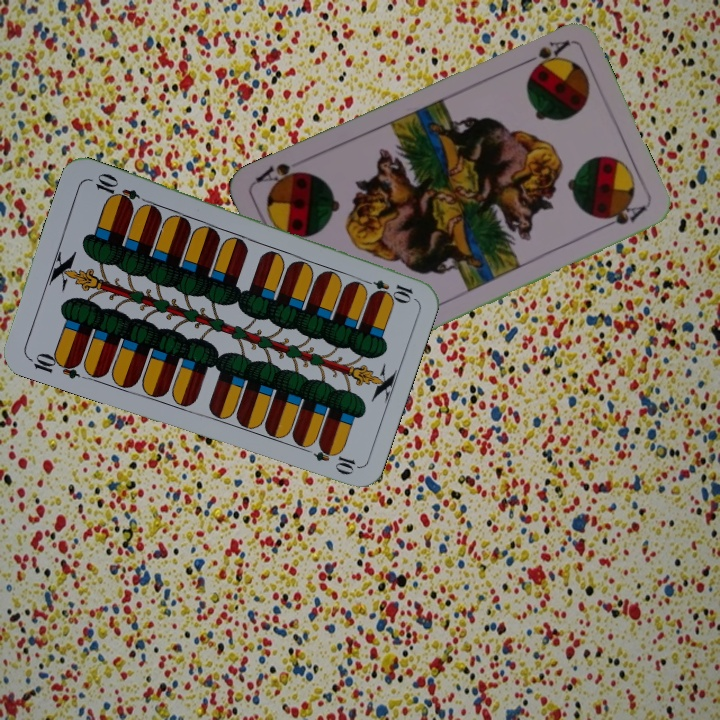E10: (24, 348, 83, 382), (357, 275, 416, 303)
SA: (516, 35, 572, 74)
